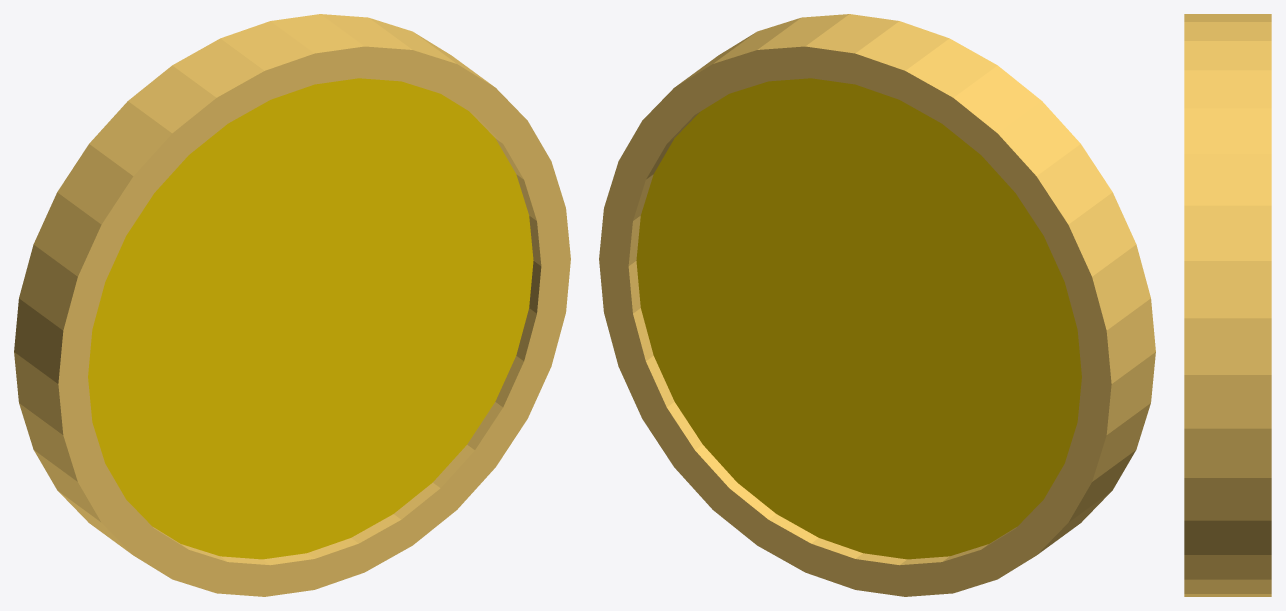
Rendered from Coin.fbx.
The picture shows the model from 3 angles, left to right: view 1: azimuth 30°, elevation 25°; view 2: azimuth 150°, elevation 25°; view 3: azimuth 270°, elevation 25°; orthographic projection.
Visible parts, largest first — view 1: Coin; view 2: Coin; view 3: Coin.
Boxes of the visible parts, x1,y1,x2,y2 form: Coin: (14,14,570,596); Coin: (599,14,1155,596); Coin: (1184,14,1271,596).
Size of the model in its own units: 200 by 30 by 200.
